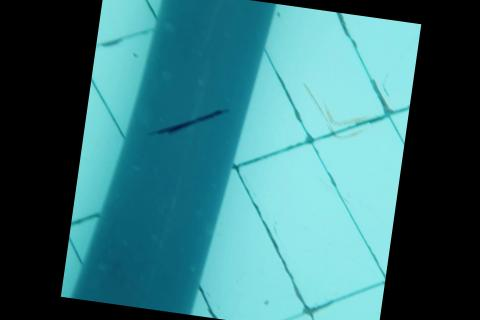keretakan: (144, 96, 229, 149)
